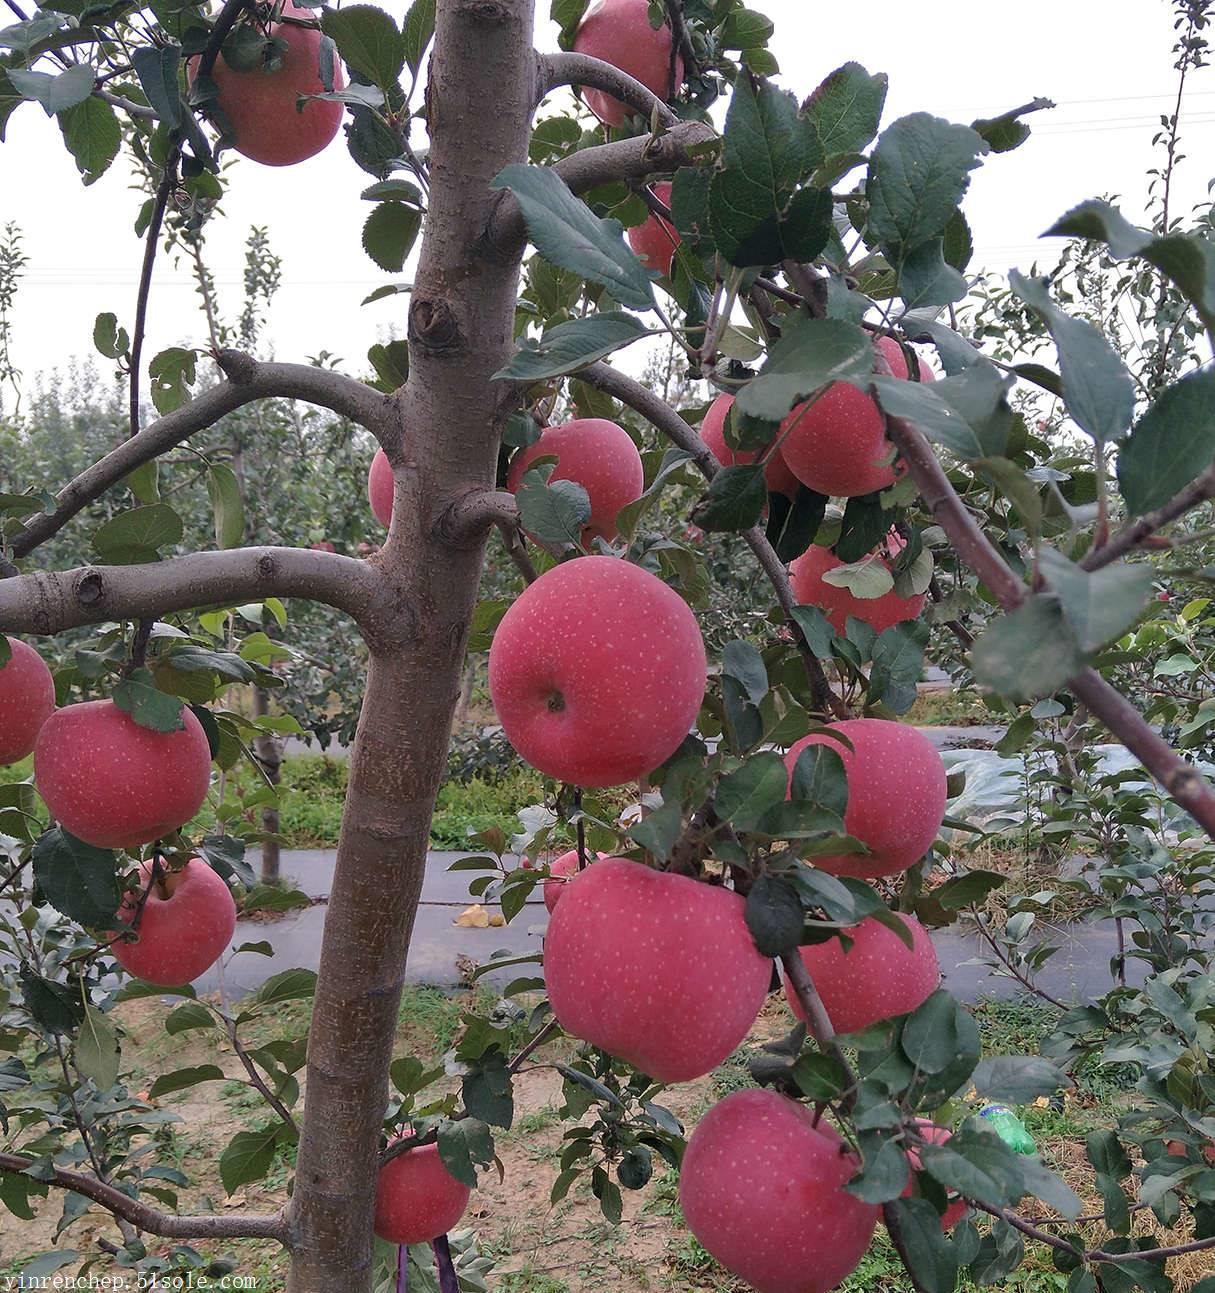apple: (489, 553, 708, 790), (544, 854, 765, 1084), (679, 1087, 880, 1290), (31, 698, 212, 851), (769, 335, 926, 495), (784, 720, 949, 872), (198, 21, 344, 167), (502, 417, 646, 555), (779, 911, 934, 1031), (106, 854, 234, 985), (570, 1, 682, 119), (368, 1132, 473, 1245)
